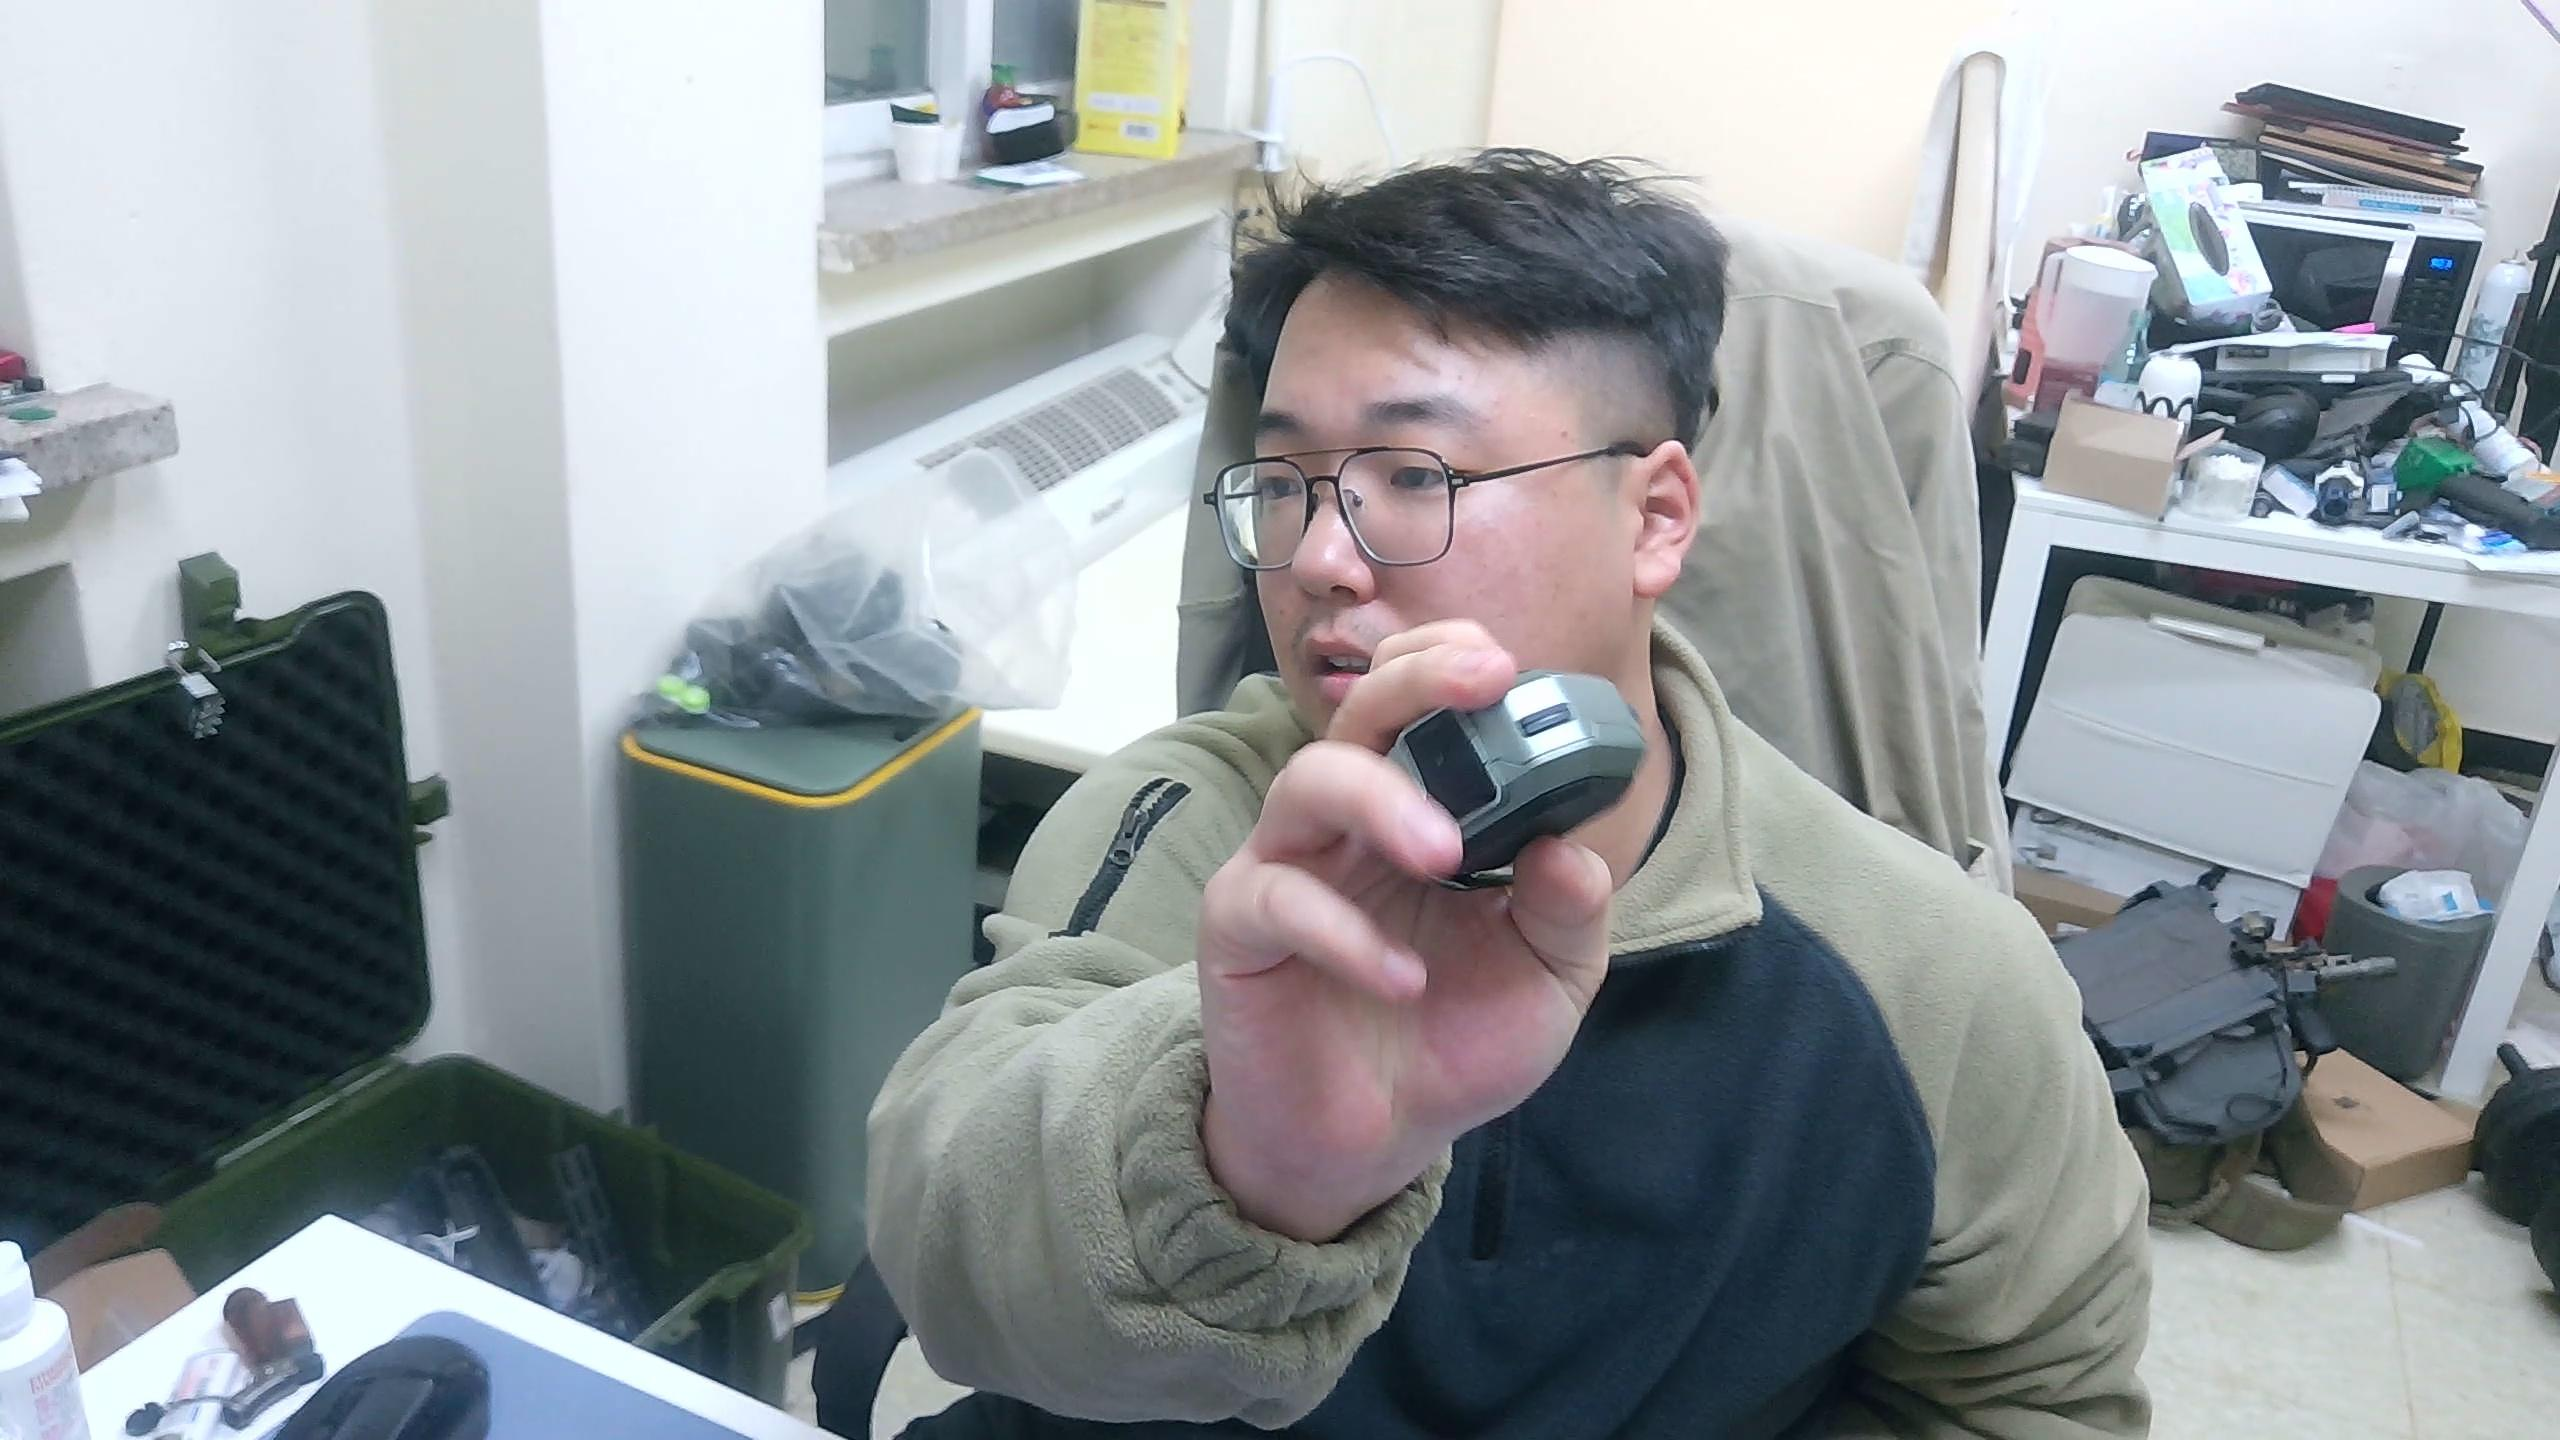blue_pliers: (1384, 666, 1649, 891)
